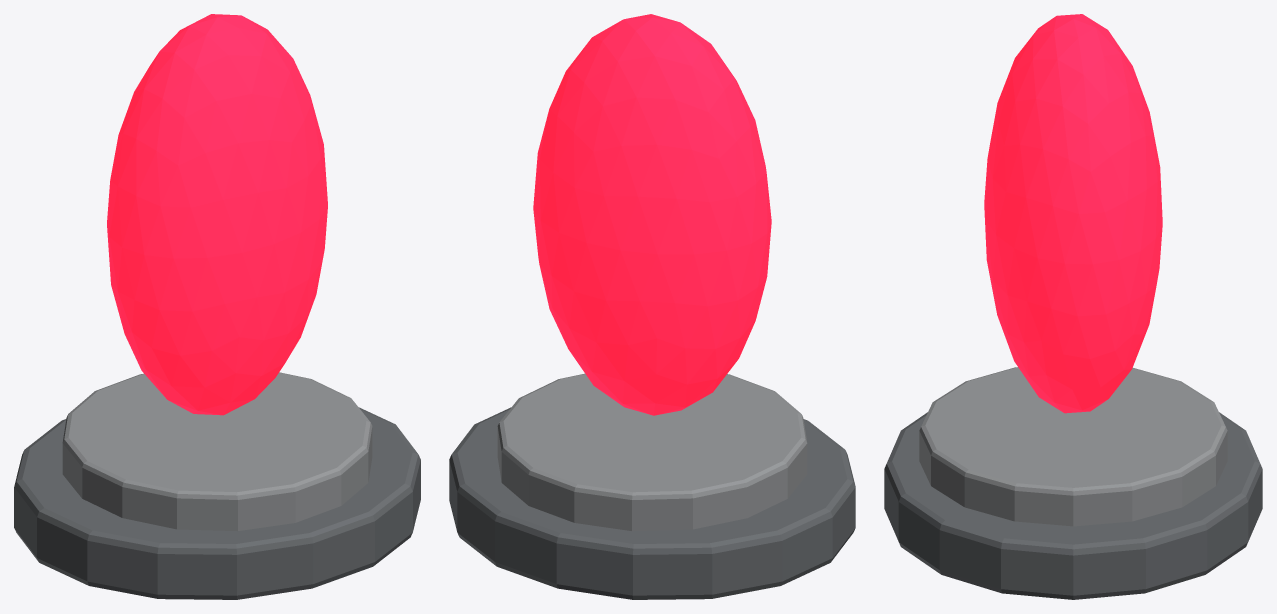
File: Refined_MagicStone_Oval.fbx
3 renders of one model, left to right at view 1: azimuth 30°, elevation 25°; view 2: azimuth 150°, elevation 25°; view 3: azimuth 270°, elevation 25°, orthographic.
Visible parts, largest first — view 1: Core.003, Pedestal_Upper.003, Pedestal_Lower.003; view 2: Core.003, Pedestal_Upper.003, Pedestal_Lower.003; view 3: Core.003, Pedestal_Upper.003, Pedestal_Lower.003.
Boxes of the visible parts, x1,y1,x2,y2 form: Core.003: (107,14,327,415); Pedestal_Upper.003: (62,372,372,531); Pedestal_Lower.003: (14,407,420,599); Core.003: (533,14,771,415); Pedestal_Upper.003: (497,373,807,531); Pedestal_Lower.003: (449,407,855,599); Core.003: (984,14,1162,413); Pedestal_Upper.003: (919,367,1227,526); Pedestal_Lower.003: (884,412,1262,599).
Bounding box in the file's own units: 1.76 × 2.35 × 1.62.
